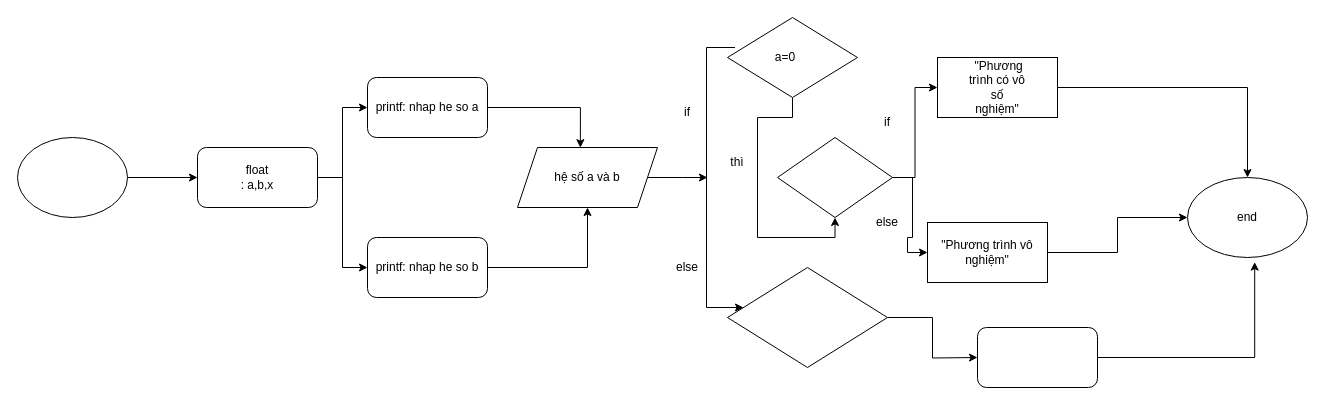
The diagram is 1325 pixels wide and 405 high, and some of its shapes have lost their labels. Here are the shapes that lost their labels. From the top down, the box of each, then its label:
(16, 136, 128, 218): star
(776, 136, 892, 218): b=o
(726, 266, 888, 368): tính x=-b/a
(976, 326, 1098, 388): phương trình có nghiệm x
